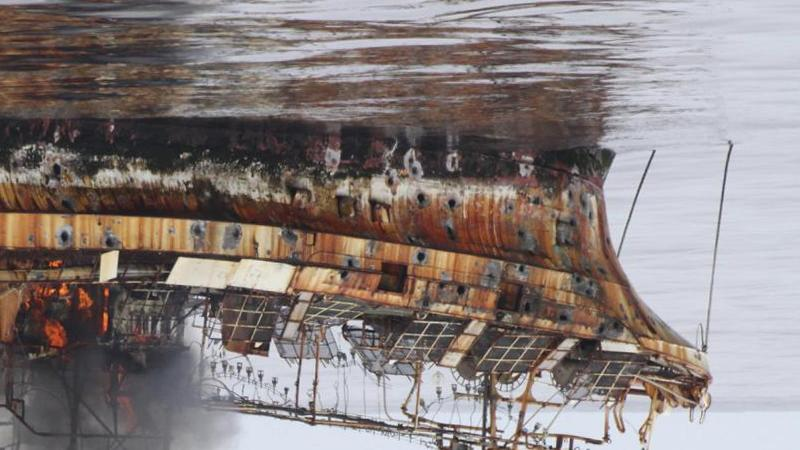rust: (2, 172, 402, 274), (395, 172, 614, 351), (625, 288, 716, 421)
